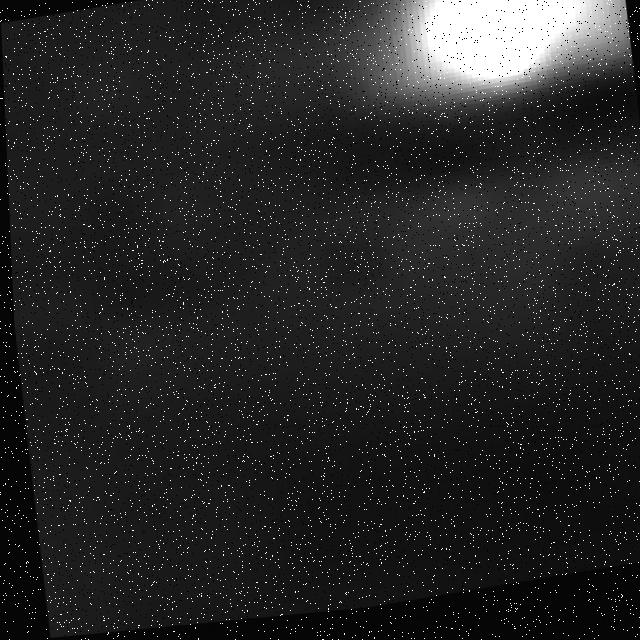person: (241, 1, 633, 137)
